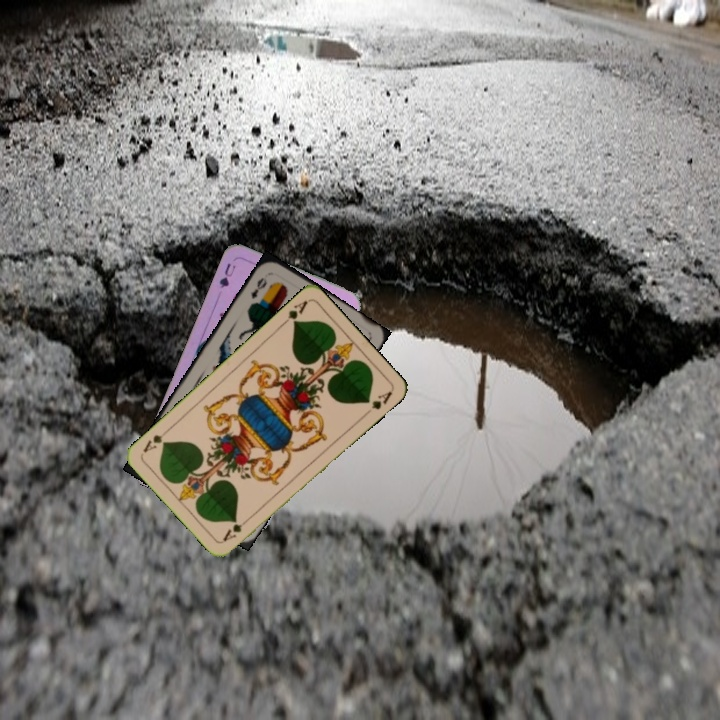EO: (247, 273, 270, 302)
GA: (277, 296, 311, 328), (219, 513, 253, 544)
GU: (215, 259, 238, 291)
